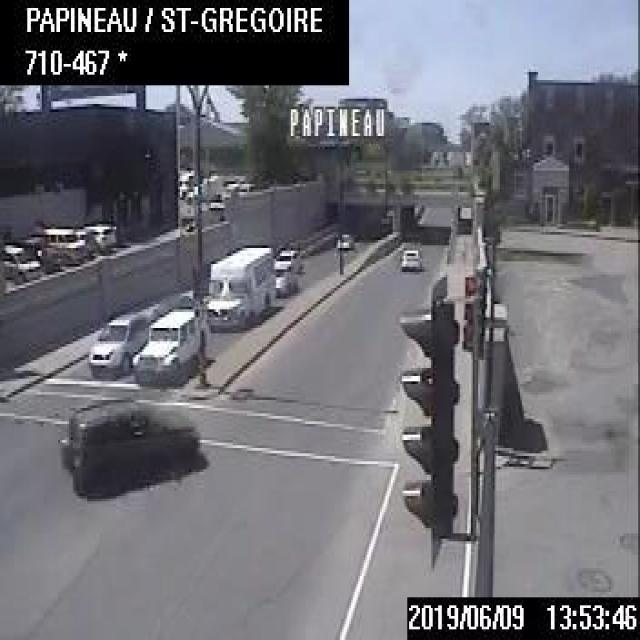bus: (207, 238, 274, 326)
vehicle: (53, 392, 202, 499), (132, 305, 208, 387), (84, 310, 149, 377), (0, 243, 40, 285), (40, 227, 83, 261), (84, 221, 117, 251), (272, 259, 296, 298), (274, 245, 304, 274), (396, 240, 422, 269), (331, 227, 349, 250)
